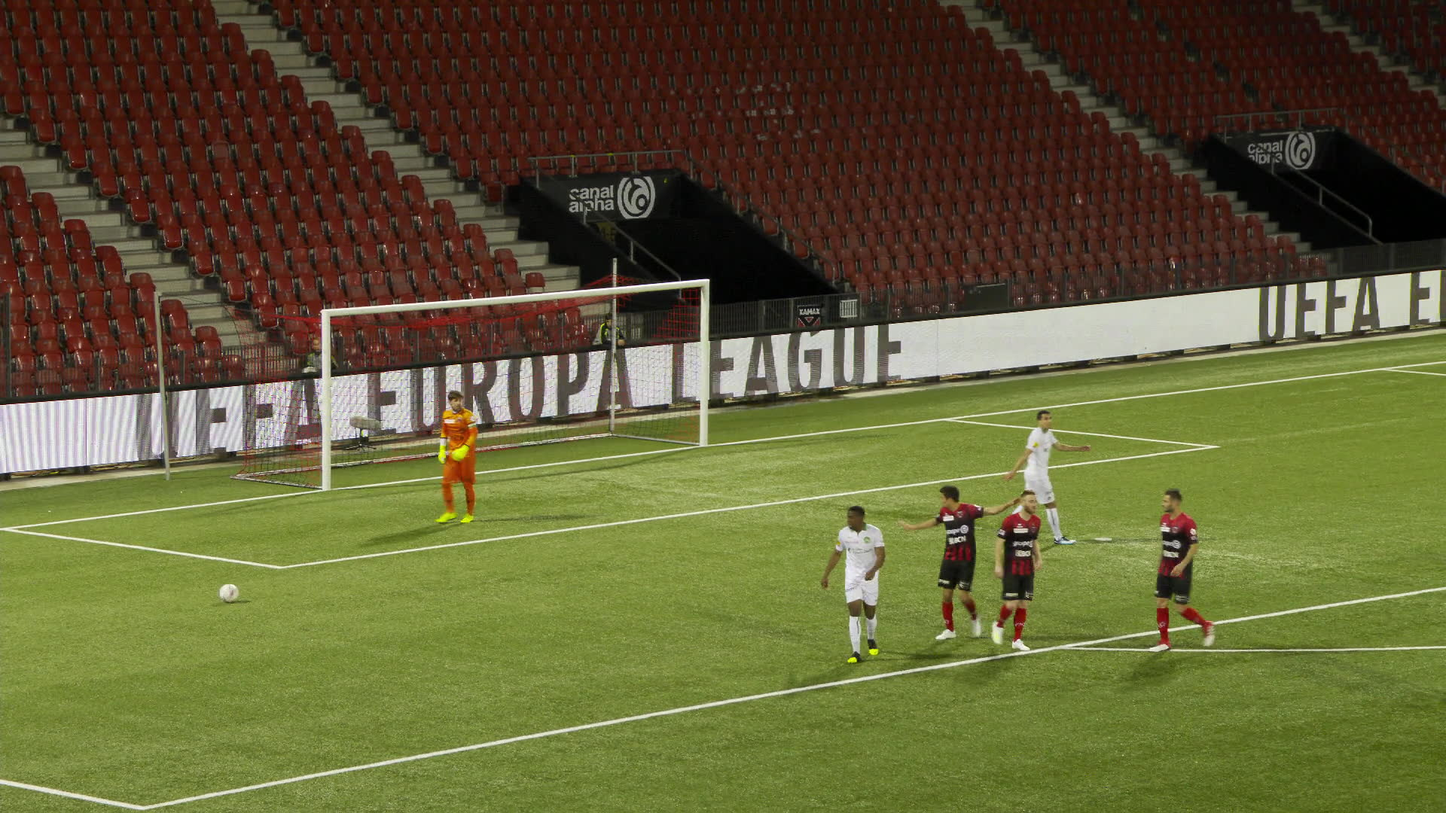ball: (220, 584, 236, 601)
player: (914, 486, 1009, 641), (1142, 488, 1212, 652), (1011, 409, 1088, 544), (822, 504, 885, 661), (982, 492, 1041, 652), (430, 391, 480, 524)
